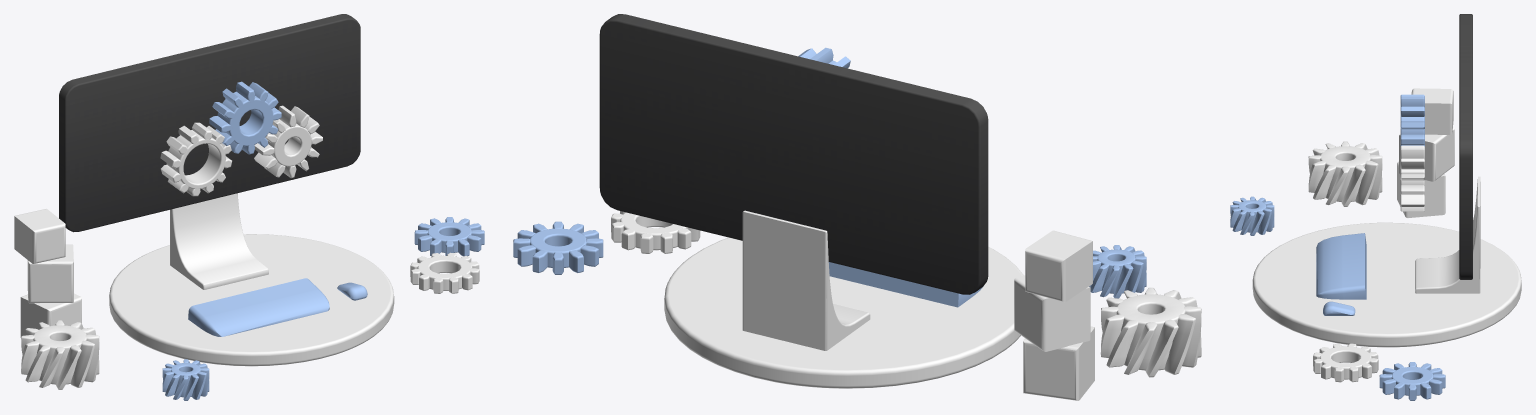
The picture shows the model from 3 angles, left to right: view 1: azimuth 30°, elevation 25°; view 2: azimuth 150°, elevation 25°; view 3: azimuth 270°, elevation 25°; orthographic projection. The views are drawn at different scales.
Visible parts, largest first — view 1: Path_4, Path_20, Path_19, Path_21, Path_13, Path_1, Path_2, Path_6, Path_9, Path_8, Path_5, Path_3 (+9 smaller); view 2: Path_4, Path_20, Path_19, Path_13, Path_2, Path_1, Path_3, Path_18, Path_14, Path_21, Path_12, Path_16 (+3 smaller); view 3: Path_20, Path_4, Path_21, Path_13, Path_19, Path_9, Path_1, Path_2, Path_18, Path_14, Path_12, Path_16 (+7 smaller).
Boxes of the visible parts, bbox=[...] form: Path_4: bbox=[59, 14, 360, 232]; Path_20: bbox=[109, 234, 394, 366]; Path_19: bbox=[170, 193, 268, 289]; Path_21: bbox=[188, 278, 329, 336]; Path_13: bbox=[21, 320, 99, 389]; Path_1: bbox=[14, 209, 65, 263]; Path_2: bbox=[27, 244, 73, 303]; Path_6: bbox=[209, 81, 281, 154]; Path_9: bbox=[254, 105, 322, 178]; Path_8: bbox=[160, 122, 231, 196]; Path_5: bbox=[217, 91, 273, 146]; Path_3: bbox=[20, 293, 81, 337]; Path_4: bbox=[599, 14, 988, 294]; Path_20: bbox=[664, 237, 1023, 388]; Path_19: bbox=[742, 210, 870, 350]; Path_13: bbox=[1100, 287, 1201, 377]; Path_2: bbox=[1014, 275, 1090, 351]; Path_1: bbox=[1025, 230, 1092, 302]; Path_3: bbox=[1023, 326, 1094, 400]; Path_18: bbox=[513, 221, 603, 274]; Path_14: bbox=[1116, 294, 1185, 370]; Path_21: bbox=[828, 262, 983, 307]; Path_12: bbox=[1089, 245, 1146, 298]; Path_16: bbox=[611, 211, 700, 253]; Path_20: bbox=[1252, 222, 1521, 347]; Path_4: bbox=[1459, 14, 1472, 279]; Path_21: bbox=[1316, 233, 1366, 299]; Path_13: bbox=[1308, 141, 1382, 206]; Path_19: bbox=[1415, 176, 1480, 293]; Path_9: bbox=[1400, 145, 1424, 211]; Path_1: bbox=[1411, 88, 1453, 134]; Path_2: bbox=[1399, 127, 1454, 181]; Path_18: bbox=[1379, 362, 1445, 400]; Path_14: bbox=[1320, 146, 1370, 201]; Path_12: bbox=[1230, 196, 1274, 235]; Path_16: bbox=[1313, 343, 1378, 382].
Bounding box in the file's own units: 25 × 11.11 × 13.68.
22 materials, 1 textured.
